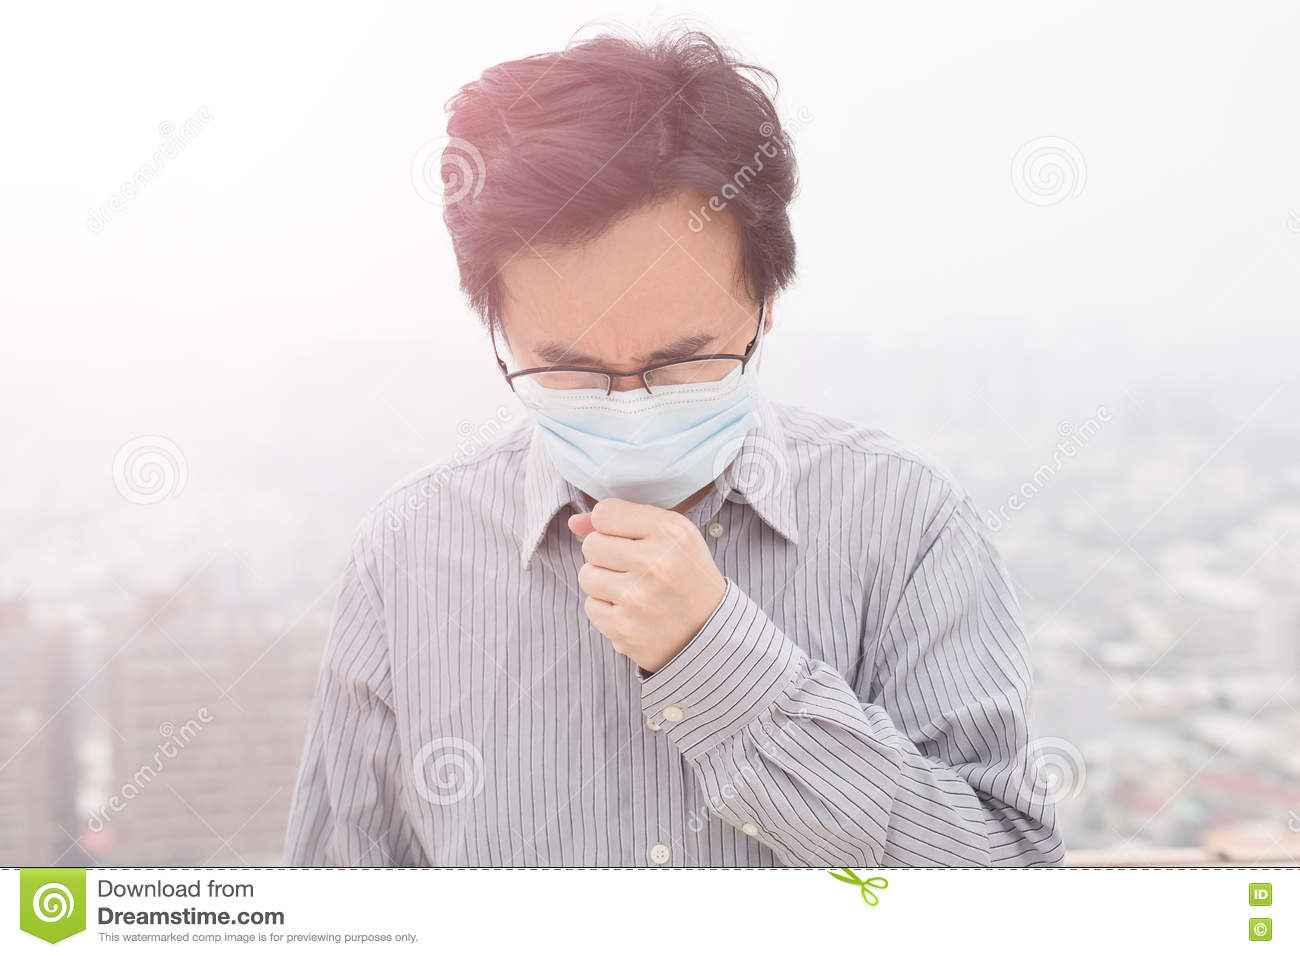mask: (504, 376, 767, 533)
